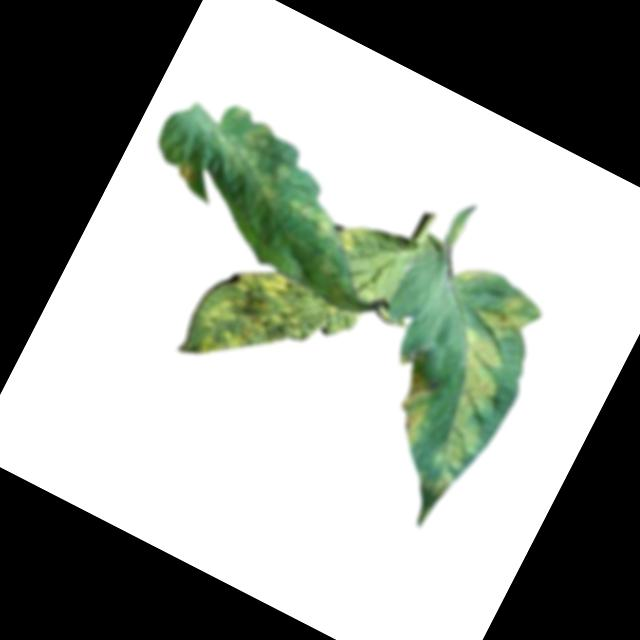Leaf_Mold: (375, 274, 550, 531), (176, 245, 363, 415), (200, 104, 310, 210), (366, 339, 458, 450), (282, 191, 340, 245), (328, 214, 372, 259), (171, 160, 201, 190)
